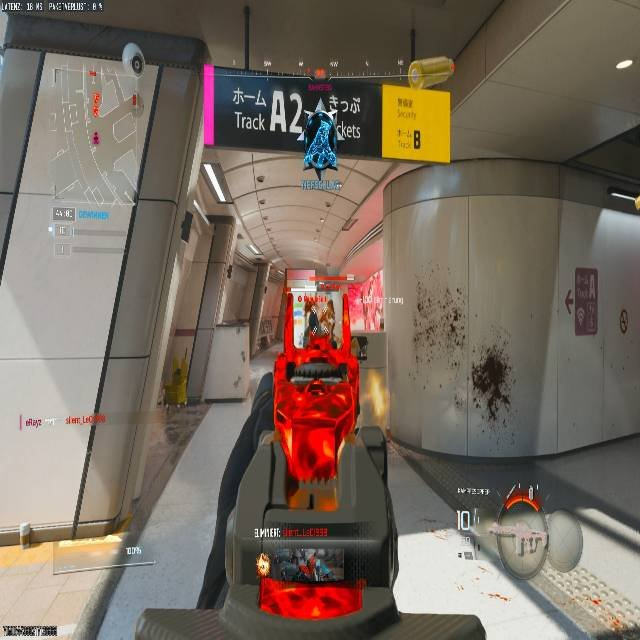head: (486, 349, 498, 363)
player: (302, 91, 351, 177), (472, 348, 512, 427), (305, 303, 334, 351)
